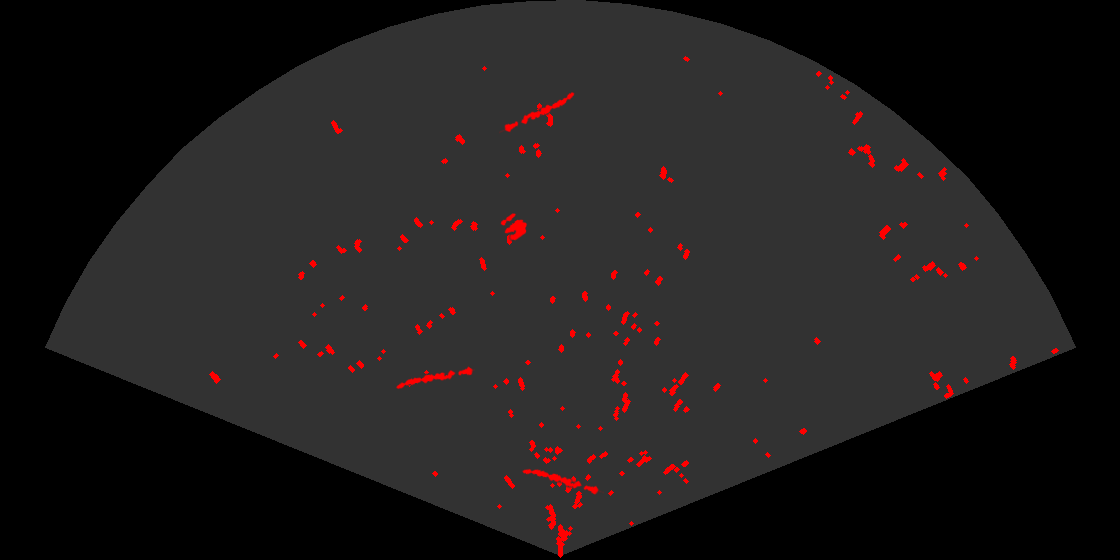ball: (499, 212, 529, 242)
chain: (499, 91, 576, 135), (520, 467, 604, 496), (394, 365, 475, 390)
